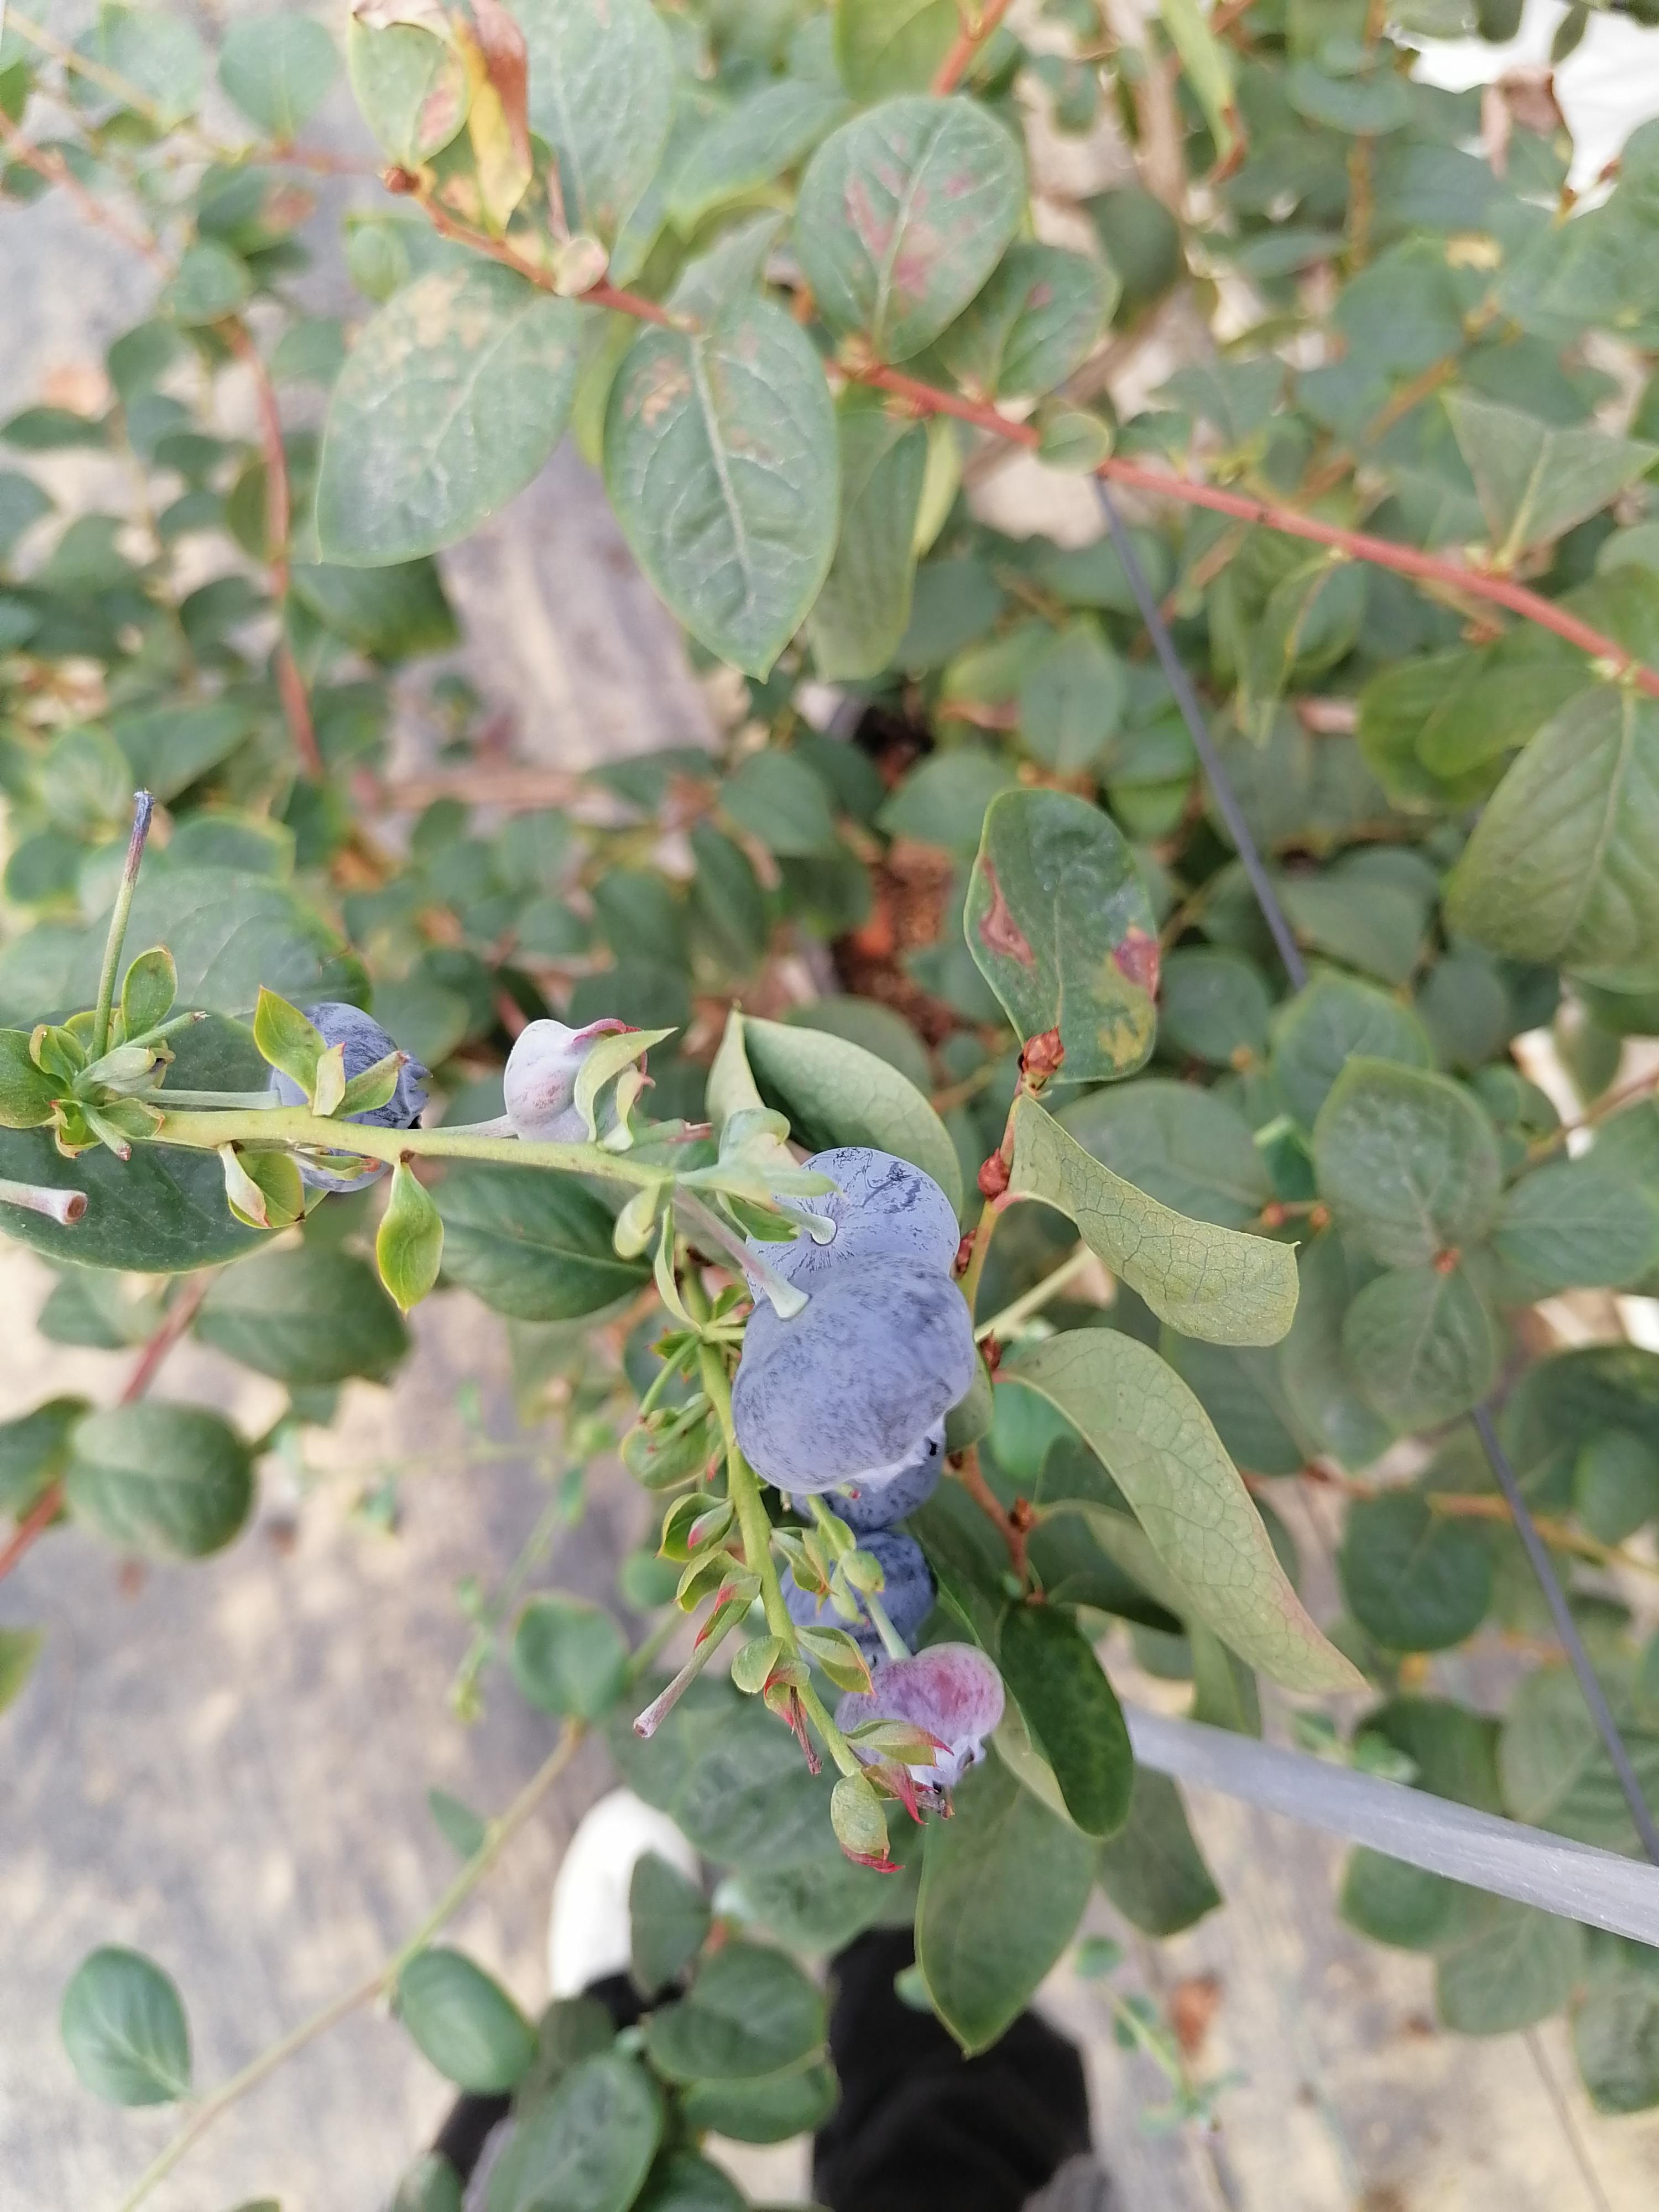ripe-blueberries: (730, 1252, 978, 1494), (744, 1144, 964, 1298), (268, 1001, 432, 1193), (779, 1529, 941, 1663), (789, 1446, 946, 1533)
